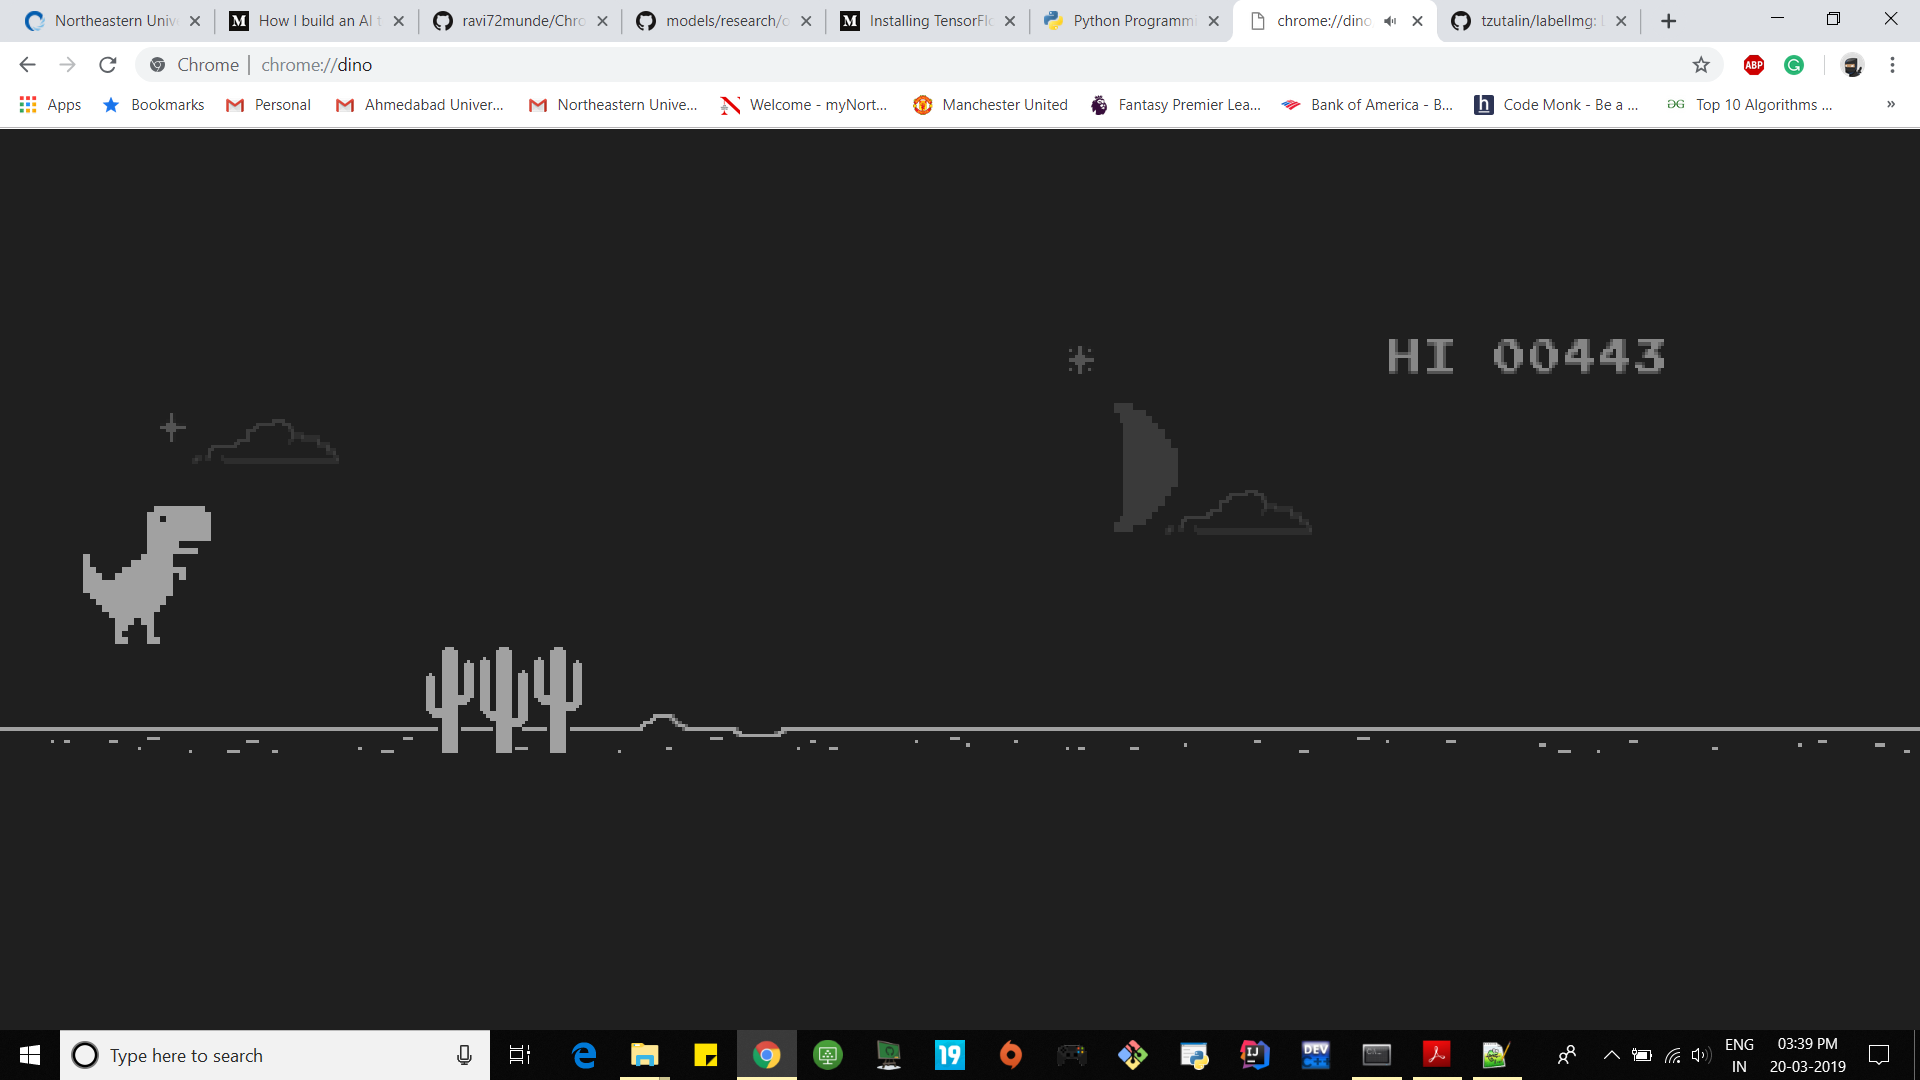cactus-3: (423, 646, 584, 753)
dino: (83, 506, 211, 645)
